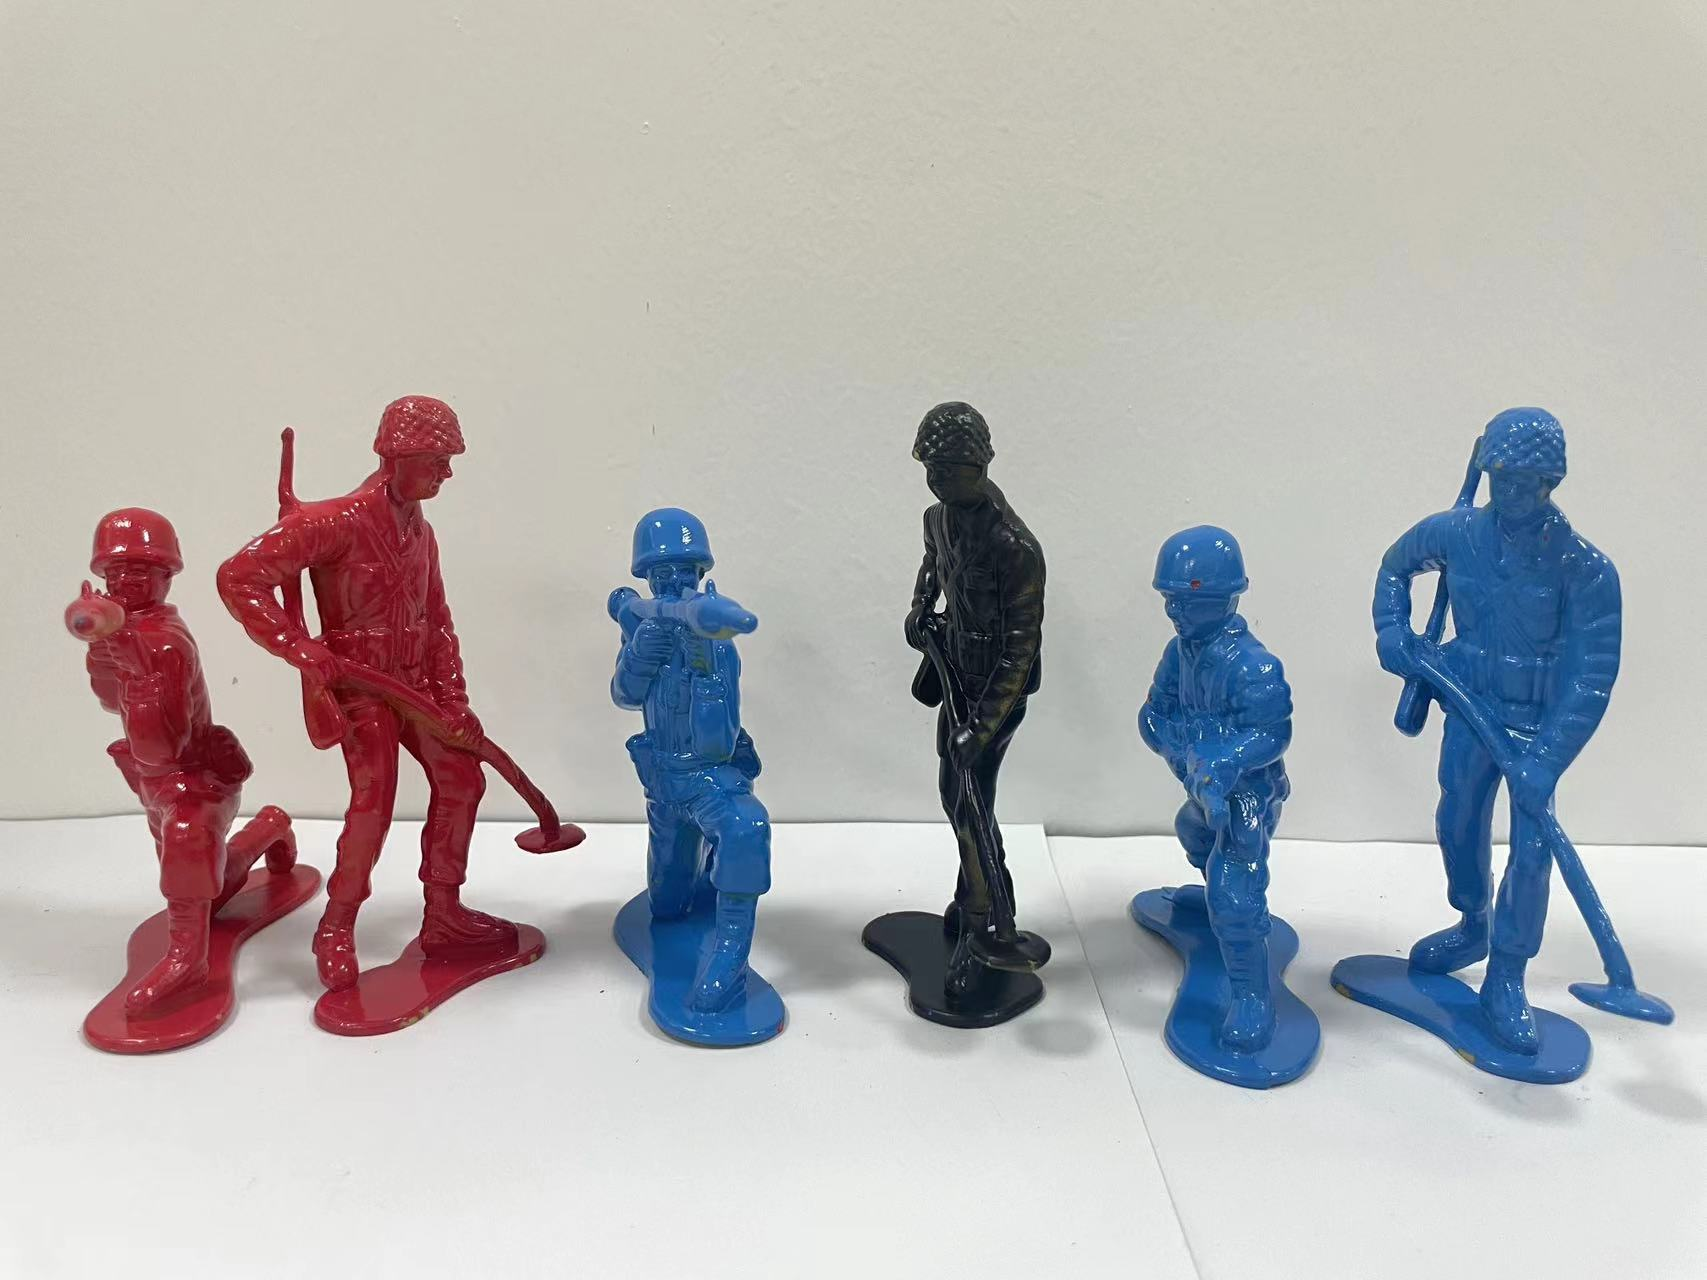black: (837, 337, 1101, 1074)
blue: (1344, 364, 1695, 1143), (1110, 487, 1341, 1104), (586, 479, 808, 1098)
red: (233, 379, 574, 1065), (26, 454, 233, 1098)
